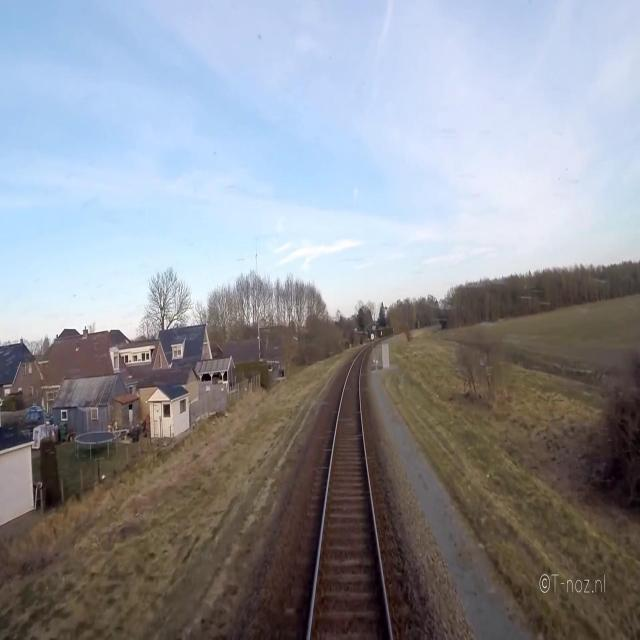rail-track: (311, 353, 388, 639)
